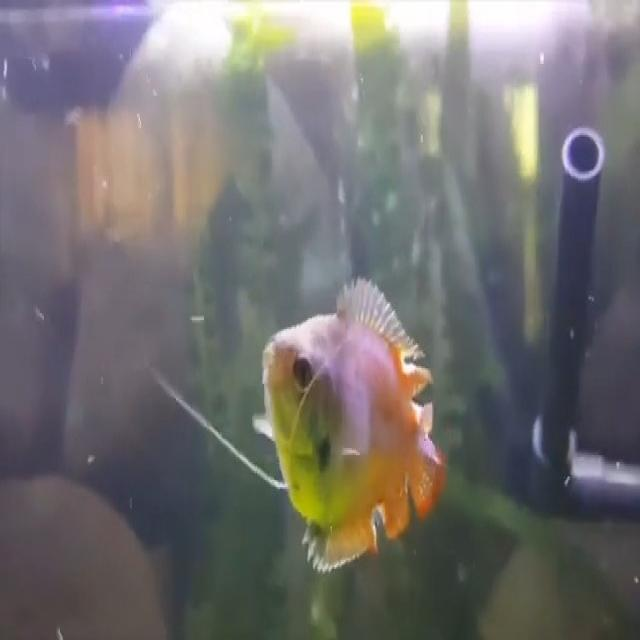fish: (260, 272, 453, 572)
